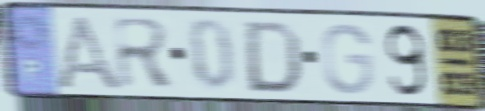0: (186, 16, 237, 95)
9: (382, 22, 429, 99)
A: (51, 11, 128, 94)
D: (244, 18, 304, 96)
G: (319, 20, 376, 97)
R: (110, 14, 179, 91)
